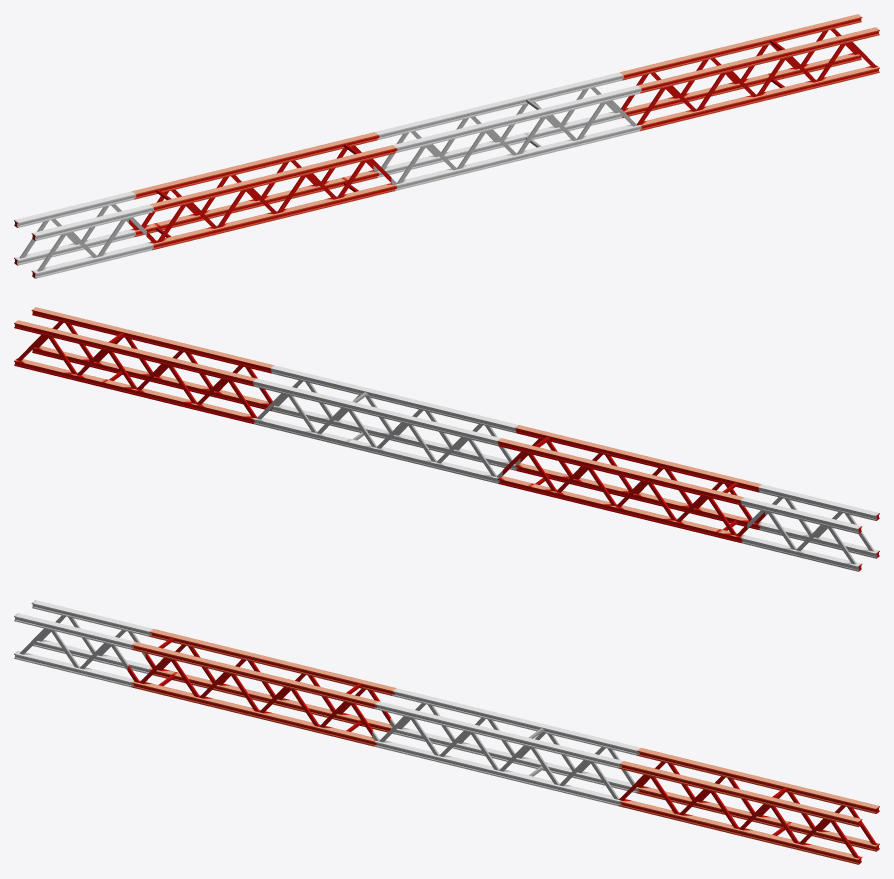
File: kure-narm.obj
The picture shows the model from 3 angles, top to bottom: view 1: azimuth 30°, elevation 25°; view 2: azimuth 150°, elevation 25°; view 3: azimuth 330°, elevation 25°; orthographic projection.
Bounding box in the file's own units: 27.12 × 1.32 × 1.21.
Materials: 1 (1 with a texture image).
